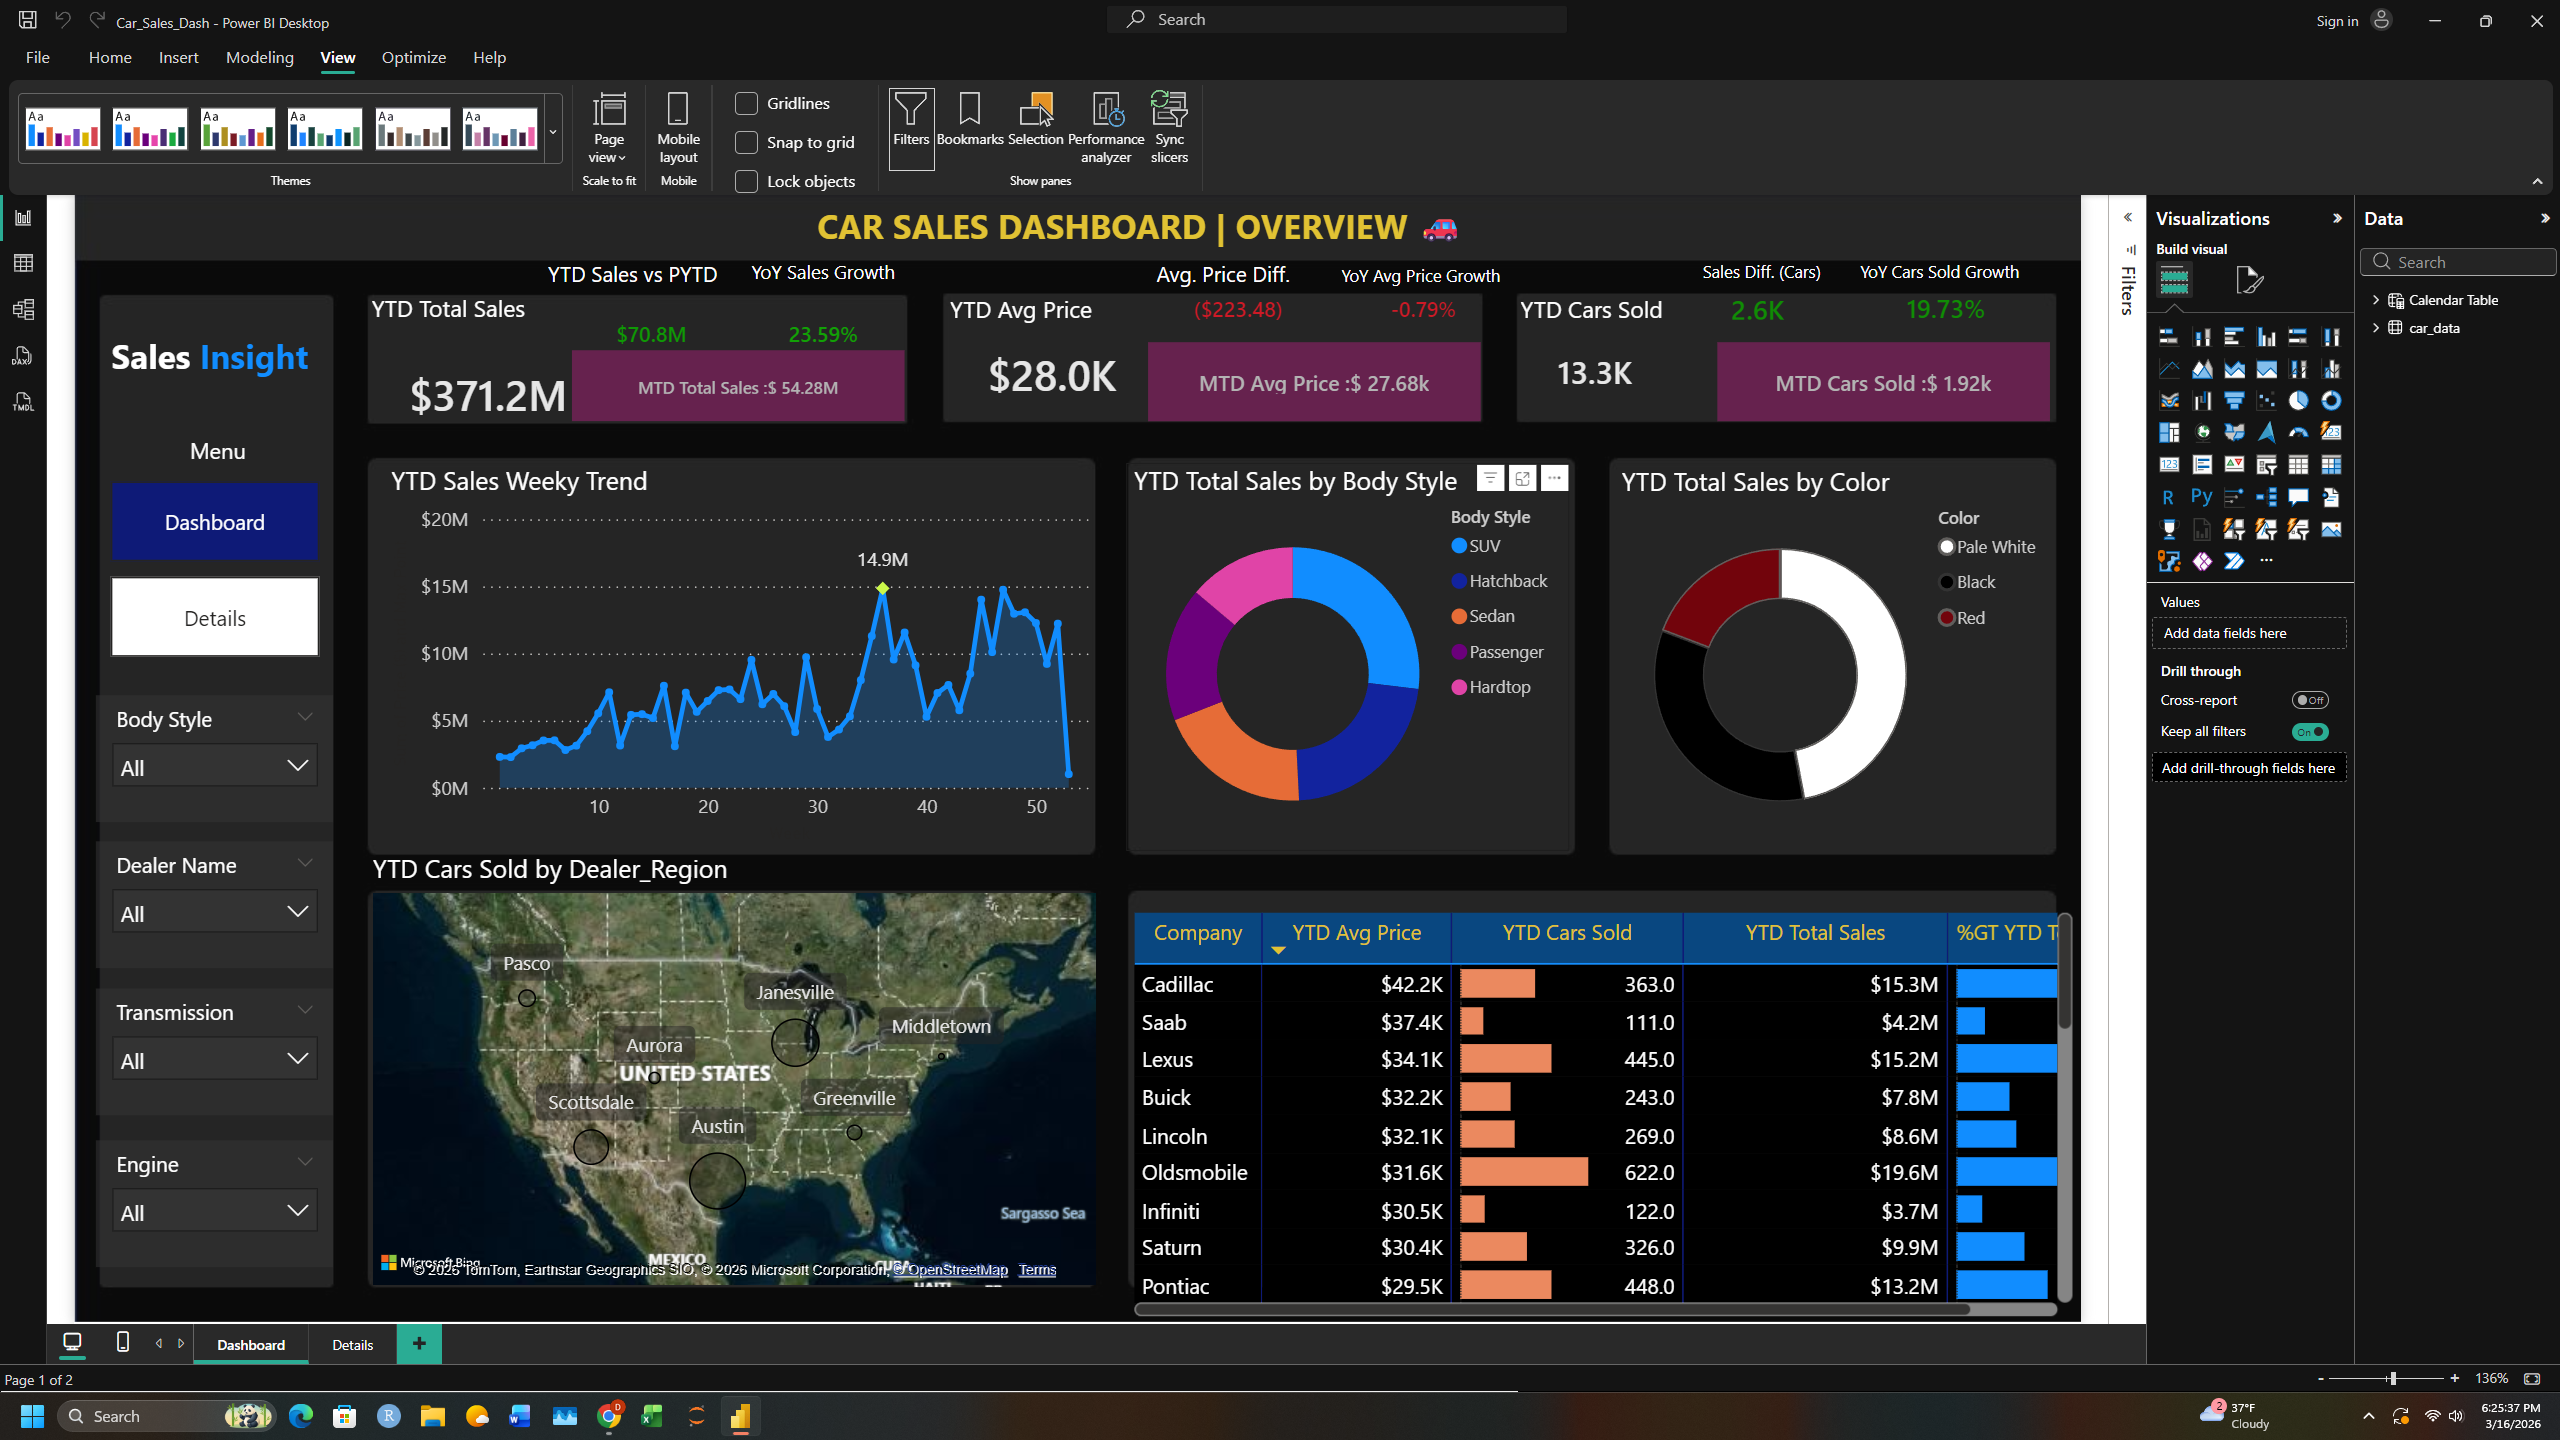

The dashboard page shown, as its layout file describes it:
{"tool":"powerbi","page":{"name":"Dashboard","canvas":[1280,720],"ordinal":0},"visuals":[{"type":"cardVisual","title":"YTD Total Sales","fields":{"Data":["car_data.YTD Total Sales"]},"box":[185,62,161,109],"z":0},{"type":"cardVisual","fields":{"Data":["car_data.Sales Difference"]},"box":[317,61,110,52],"z":1000},{"type":"cardVisual","fields":{"Data":["car_data.MTD KPI"]},"box":[318,99,212,45],"z":2000},{"type":"cardVisual","fields":{"Data":["car_data.YoY Sales Growth"]},"box":[427,62,110,49],"z":3000},{"type":"cardVisual","title":"YTD Avg Price ","fields":{"Data":["car_data.YTD Avg Price"]},"box":[554,63,149,81],"z":4000},{"type":"cardVisual","fields":{"Data":["car_data.Avg Price Diff"]},"box":[682,43,121,56],"z":5000},{"type":"cardVisual","fields":{"Data":["car_data.YoY Avg Price Growth"]},"box":[803,43,115,56],"z":6000},{"type":"cardVisual","fields":{"Data":["car_data.MTD Avg Price KPI"]},"box":[685,94,212,50],"z":7000},{"type":"textbox","box":[427,34,127,29],"z":8000},{"type":"cardVisual","title":"YTD Cars Sold","fields":{"Data":["car_data.YTD Cars Sold"]},"box":[918,63,106,78],"z":9000},{"type":"cardVisual","fields":{"Data":["car_data.Cars Sold Difference"]},"box":[1024,45,100,52],"z":10000},{"type":"textbox","box":[1034,15,100,48],"z":11000},{"type":"textbox","box":[685,35,127,29],"z":12000},{"type":"textbox","box":[803,35,116,29],"z":13000},{"type":"textbox","box":[297,35,127,29],"z":14000},{"type":"cardVisual","fields":{"Data":["car_data.YoY Cars Sold Growth"]},"box":[1134,45,120,52],"z":15000},{"type":"textbox","box":[1134,15,126,49],"z":16000},{"type":"cardVisual","fields":{"Data":["car_data.MTD Cars Sold KPI"]},"box":[1048,94,212,50],"z":17000},{"type":"areaChart","title":"YTD Sales Weeky Trend ","fields":{"Category":["Calendar Table.Week"],"Y":["Sum(car_data.Price ($))","car_data.Max Point"]},"box":[197,171,459,247],"z":18000},{"type":"donutChart","fields":{"Category":["car_data.Body Style"],"Y":["car_data.YTD Total Sales"]},"box":[671,171,283,247],"z":19000},{"type":"donutChart","fields":{"Y":["car_data.YTD Total Sales"],"Category":["car_data.Color"]},"box":[982,172,283,247],"z":20000},{"type":"map","fields":{"Category":["car_data.Dealer_Region"],"Size":["car_data.YTD Cars Sold"]},"box":[185.4,417.9,470.7,282.9],"z":21000},{"type":"tableEx","fields":{"Values":["car_data.Company","car_data.YTD Avg Price","car_data.YTD Cars Sold","car_data.YTD Total Sales","Divide(car_data.YTD Total Sales, ScopedEval(car_data.YTD Total Sales, []))"]},"box":[670.7,452.5,609.1,267.7],"z":22000},{"type":"textbox","box":[438.4,0,488.9,74.7],"z":22001},{"type":"slicer","fields":{"Values":["car_data.Body Style"]},"box":[14.1,319.2,151.5,80.8],"z":22002},{"type":"slicer","fields":{"Values":["car_data.Dealer_Name"]},"box":[14.1,412.1,151.5,80.8],"z":22003},{"type":"slicer","fields":{"Values":["car_data.Transmission"]},"box":[14.1,506.1,151.5,80.8],"z":22004},{"type":"slicer","fields":{"Values":["car_data.Engine"]},"box":[14.1,603,151.5,80.8],"z":22005},{"type":"pageNavigator","box":[23.2,182.8,133.3,112.1],"z":22006},{"type":"textbox","box":[60.6,148.5,65.7,46.5],"z":22007},{"type":"textbox","box":[14.1,82.8,151.5,40.4],"z":22008}]}

Visuals, with their boxes on the page's 1280x720 design canvas (x1, y1, x2, y2). These are canvas units, not pixel positions in the 2560x1440 screenshot, which may show the page scaled, cropped or inside an application window:
"YTD Total Sales" cardVisual: (185, 62, 346, 171)
cardVisual - car_data.Sales Difference: (317, 61, 427, 113)
cardVisual - car_data.MTD KPI: (318, 99, 530, 144)
cardVisual - car_data.YoY Sales Growth: (427, 62, 537, 111)
"YTD Avg Price " cardVisual: (554, 63, 703, 144)
cardVisual - car_data.Avg Price Diff: (682, 43, 803, 99)
cardVisual - car_data.YoY Avg Price Growth: (803, 43, 918, 99)
cardVisual - car_data.MTD Avg Price KPI: (685, 94, 897, 144)
textbox: (427, 34, 554, 63)
"YTD Cars Sold" cardVisual: (918, 63, 1024, 141)
cardVisual - car_data.Cars Sold Difference: (1024, 45, 1124, 97)
textbox: (1034, 15, 1134, 63)
textbox: (685, 35, 812, 64)
textbox: (803, 35, 919, 64)
textbox: (297, 35, 424, 64)
cardVisual - car_data.YoY Cars Sold Growth: (1134, 45, 1254, 97)
textbox: (1134, 15, 1260, 64)
cardVisual - car_data.MTD Cars Sold KPI: (1048, 94, 1260, 144)
"YTD Sales Weeky Trend " areaChart: (197, 171, 656, 418)
donutChart - car_data.Body Style x car_data.YTD Total Sales: (671, 171, 954, 418)
donutChart - car_data.YTD Total Sales x car_data.Color: (982, 172, 1265, 419)
map - car_data.Dealer_Region x car_data.YTD Cars Sold: (185, 418, 656, 701)
tableEx - car_data.Company x car_data.YTD Avg Price: (671, 452, 1280, 720)
textbox: (438, 0, 927, 75)
slicer - car_data.Body Style: (14, 319, 166, 400)
slicer - car_data.Dealer_Name: (14, 412, 166, 493)
slicer - car_data.Transmission: (14, 506, 166, 587)
slicer - car_data.Engine: (14, 603, 166, 684)
pageNavigator: (23, 183, 156, 295)
textbox: (61, 148, 126, 195)
textbox: (14, 83, 166, 123)
